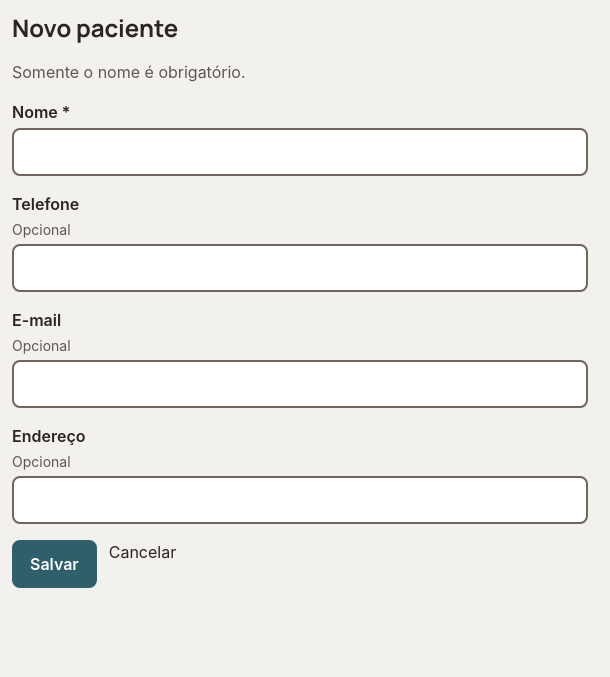
it: Novo paciente (PAC-01) › erro genérico em role=alert sem eco de dado
Type "Ana" into the field labelled "Nome *". click: (300, 152)
box: x1=12 y1=128 x2=588 y2=176
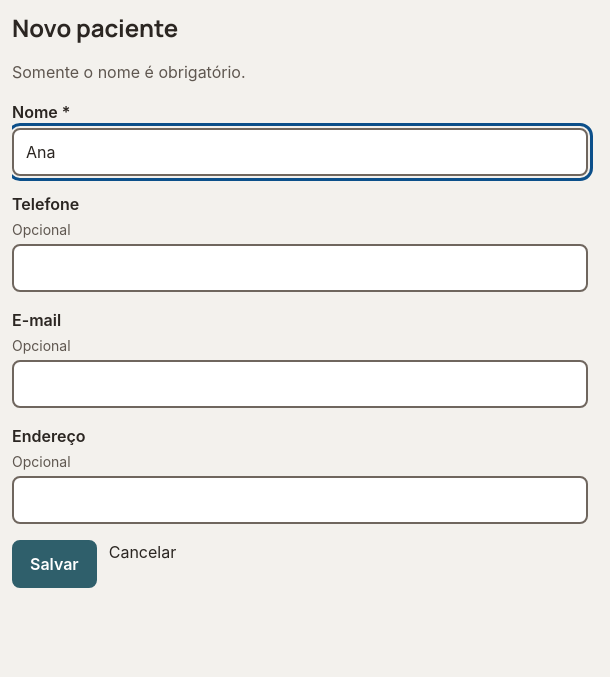
Click the button "Salvar". click: (54, 564)
box: x1=12 y1=540 x2=97 y2=588
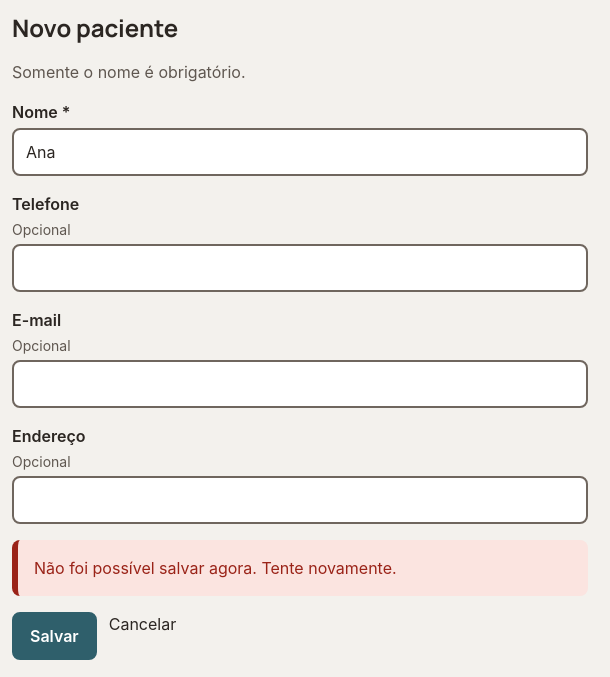
expect the message does not show "Ana": met
expect the message shows "Não foi possível salvar": met, box x1=34 y1=558 x2=397 y2=578
